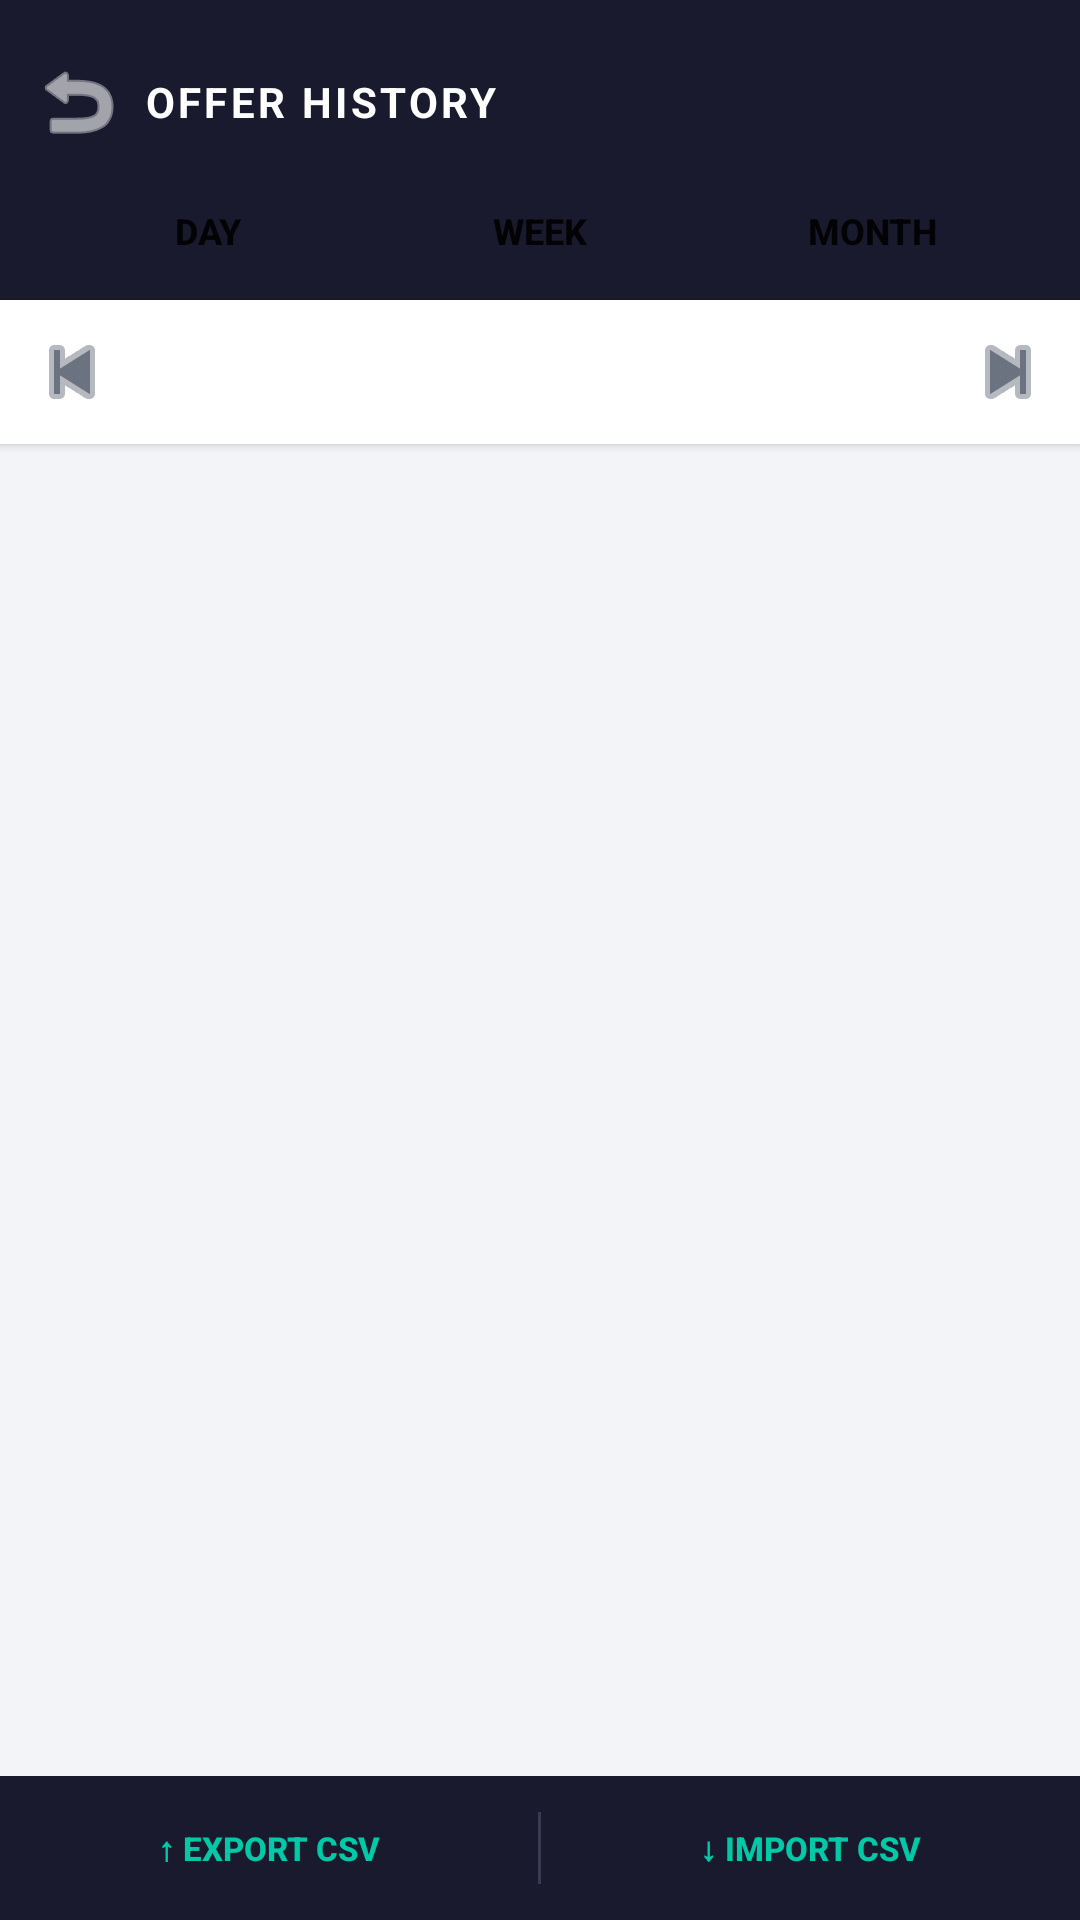

Where to tap for icons on this 1080 × 1920 app screen, as (x=x, y=y):
Back: (x=79, y=102)
Next day: (x=1008, y=372)
Previous day: (x=72, y=372)
